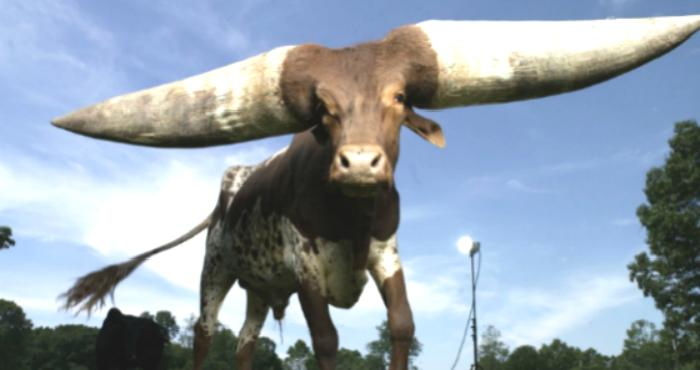muzzles: (326, 143, 396, 202)
